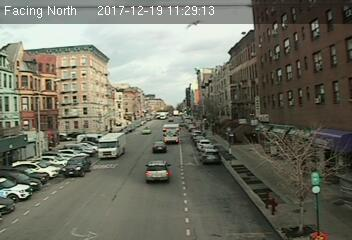car: (62, 155, 91, 178), (144, 161, 169, 183), (201, 148, 219, 162), (151, 141, 167, 154)
truck: (96, 132, 126, 160), (162, 123, 181, 145)
